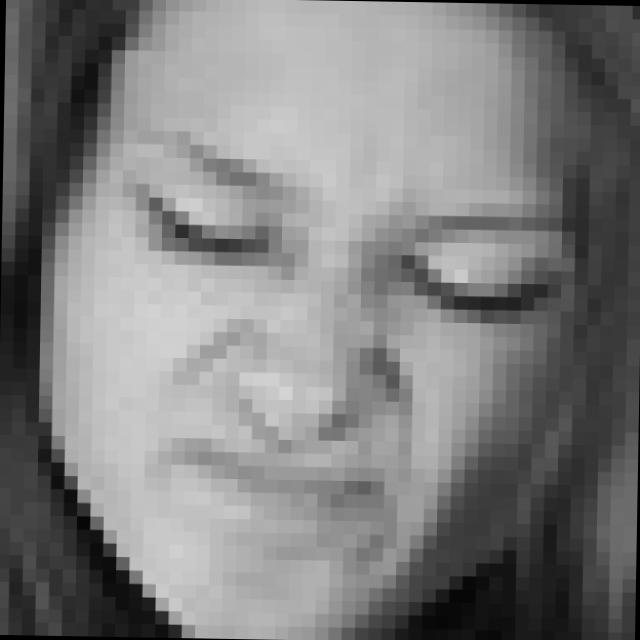disgust: (117, 127, 580, 576)
